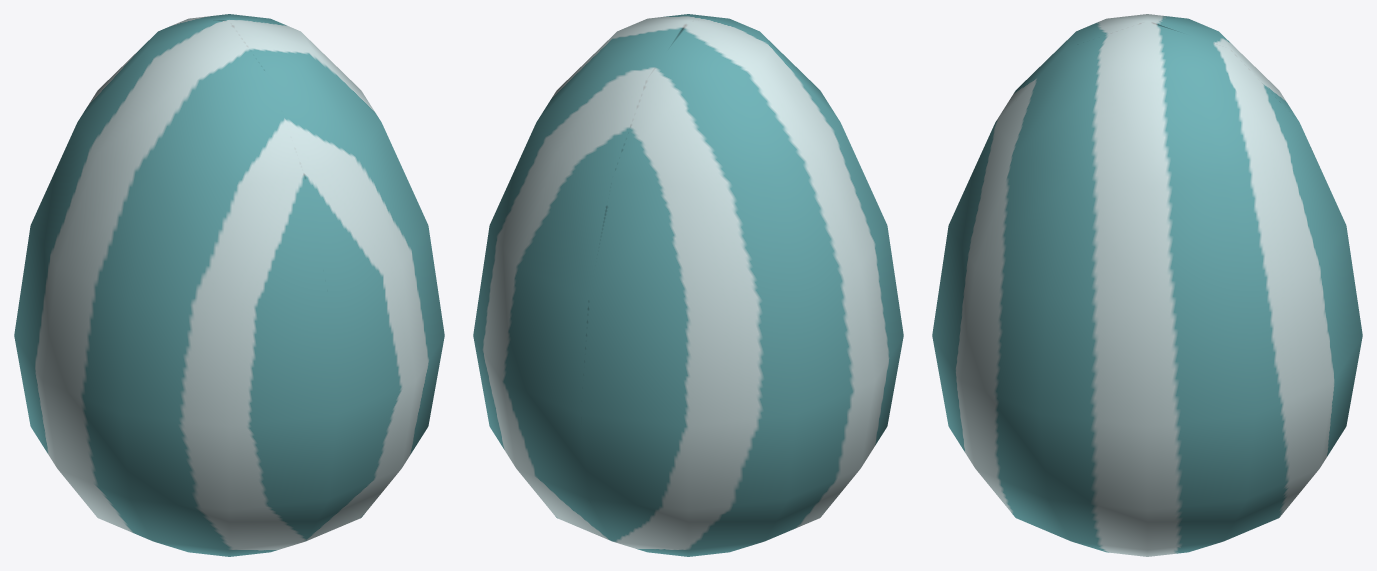
File: EasterEgg_Blue.fbx
The picture shows the model from 3 angles, left to right: view 1: azimuth 30°, elevation 25°; view 2: azimuth 150°, elevation 25°; view 3: azimuth 270°, elevation 25°; orthographic projection.
Parts seen in each view (by area): view 1: Sphere; view 2: Sphere; view 3: Sphere.
Boxes of the visible parts, <box> form: Sphere: <box>14,14,444,556</box>; Sphere: <box>473,14,903,556</box>; Sphere: <box>932,14,1362,556</box>.
Size of the model in its own units: 0.4834 by 0.6359 by 0.4834.
1 material, 1 textured.
